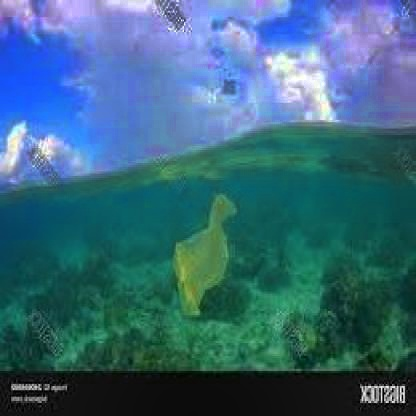pbag: (173, 193, 240, 317)
